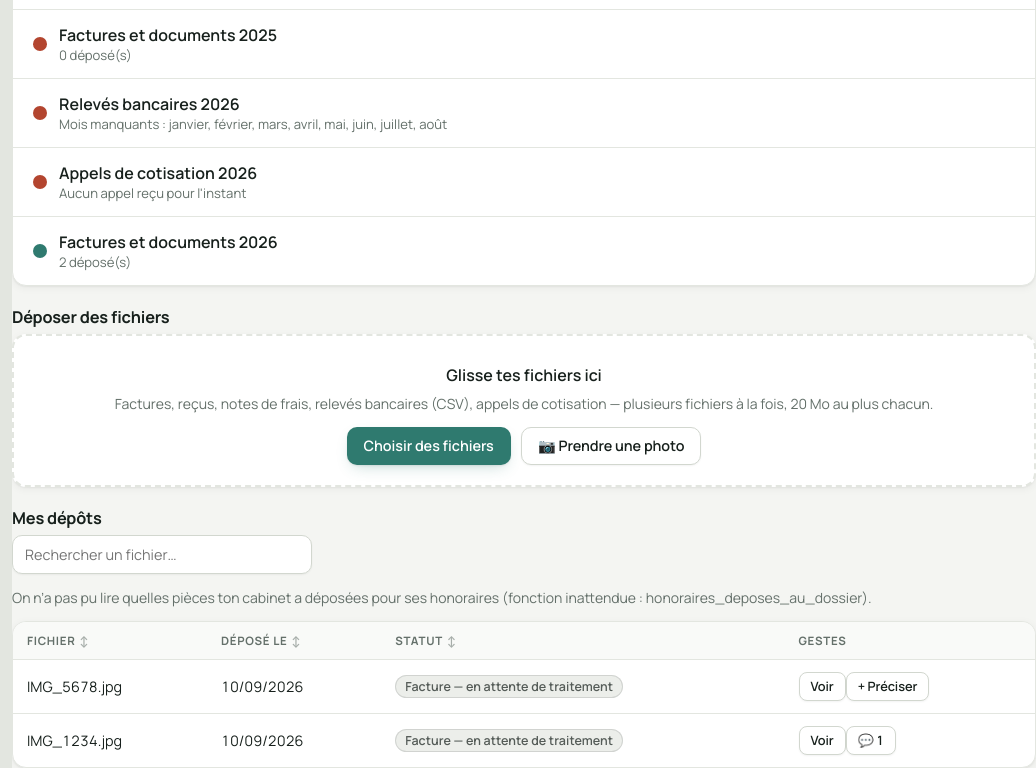
it: ClientUpload — la recherche › retrouve un dépôt par la précision qu’on y a laissée
(page scrolled)
Expected: the heading "Mes dépôts" is shown, [12,507,102,529]
Type "salle attente" into the search field.
click(162, 554); type("salle attente")  # box [12,535,312,574]
(page scrolled)
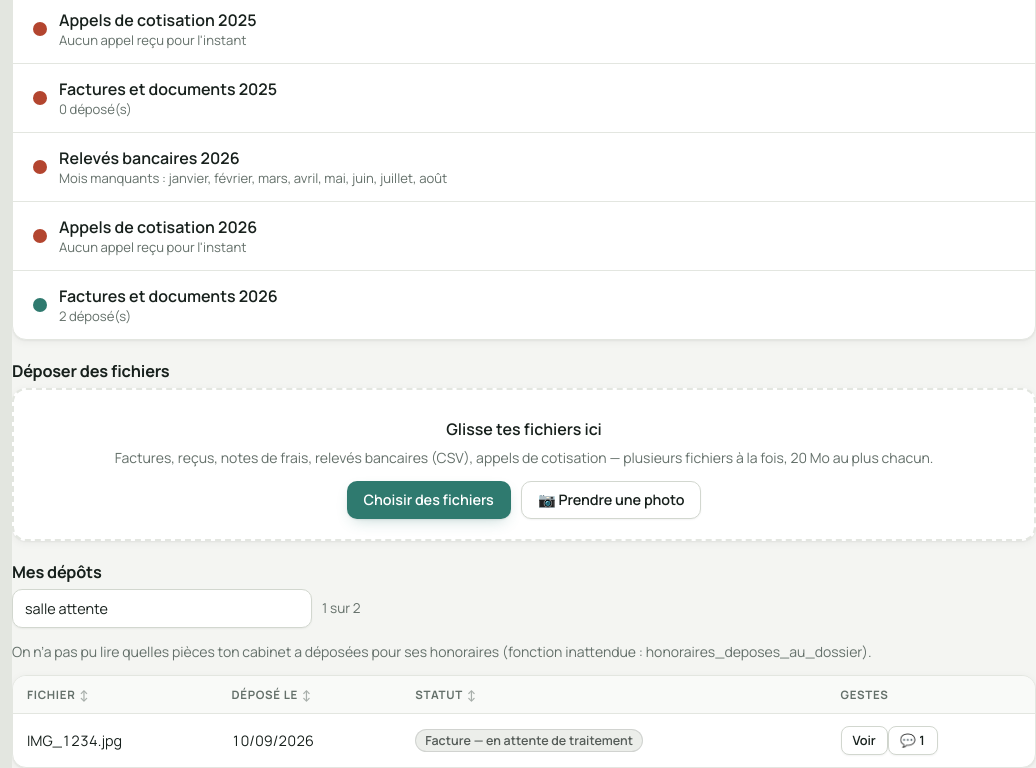
Expected: the text "IMG_1234.jpg" is shown, [13,713,218,767]
Result: the text "IMG_5678.jpg" is not shown
Result: the text "1 sur 2" is shown at [322,599,361,617]
